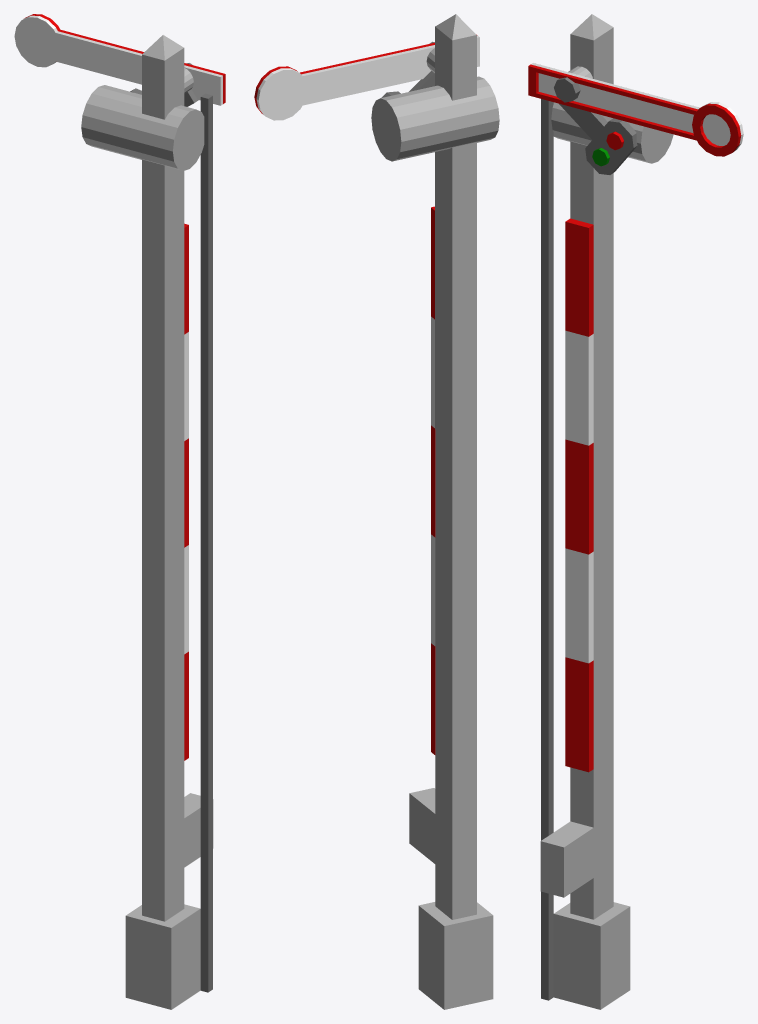
Rendered from GMLID_7431654_78949_792.gltf.
3 renders of one model, left to right at view 1: azimuth 90°, elevation 25°; view 2: azimuth 150°, elevation 25°; view 3: azimuth 270°, elevation 25°, orthographic. The views are drawn at different scales.
Visible parts, largest first — view 1: Z_UP; view 2: Z_UP; view 3: Z_UP.
Boxes of the visible parts, x1=… form: Z_UP: x1=14, y1=14, x2=225, y2=1009; Z_UP: x1=254, y1=14, x2=499, y2=1009; Z_UP: x1=528, y1=14, x2=743, y2=1009.
Size of the model in its own units: 2.5 by 14.04 by 2.8.
